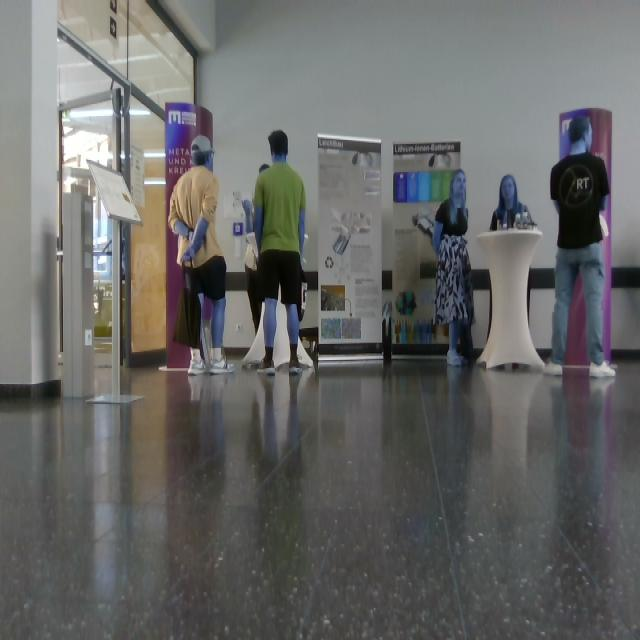banner: (394, 142, 460, 358), (319, 136, 382, 360), (560, 109, 612, 361), (166, 104, 213, 369), (567, 277, 588, 365)
person: (547, 117, 614, 378), (169, 136, 234, 373), (254, 130, 312, 374), (477, 229, 544, 369), (490, 176, 535, 229)
pillar: (1, 1, 59, 385)
tiled floor: (1, 361, 640, 640)
